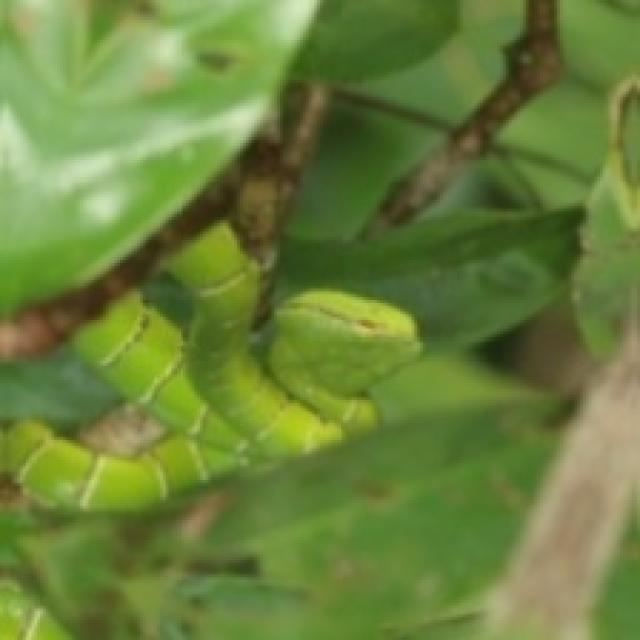north ph temple pitviper: (0, 263, 420, 509)
